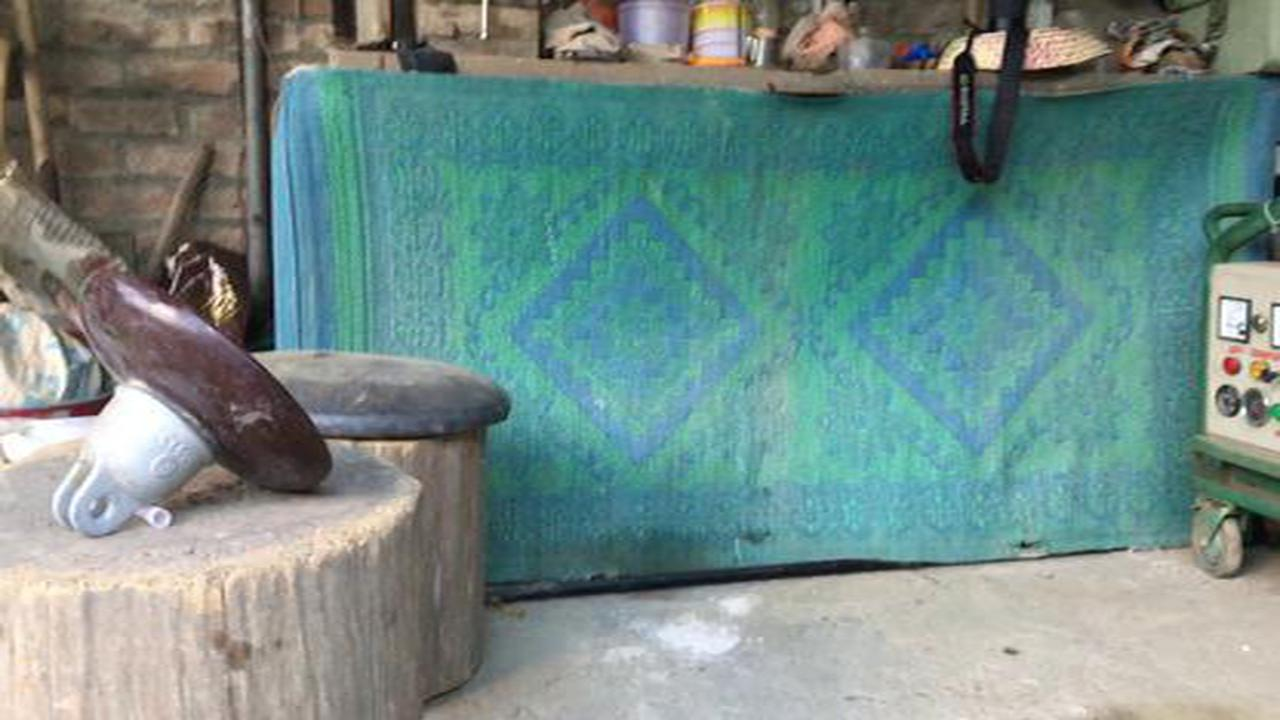insulator_disc: (47, 255, 340, 540)
